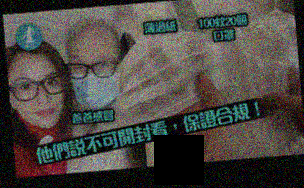with_mask: (65, 49, 119, 110)
without_mask: (12, 71, 64, 129)
